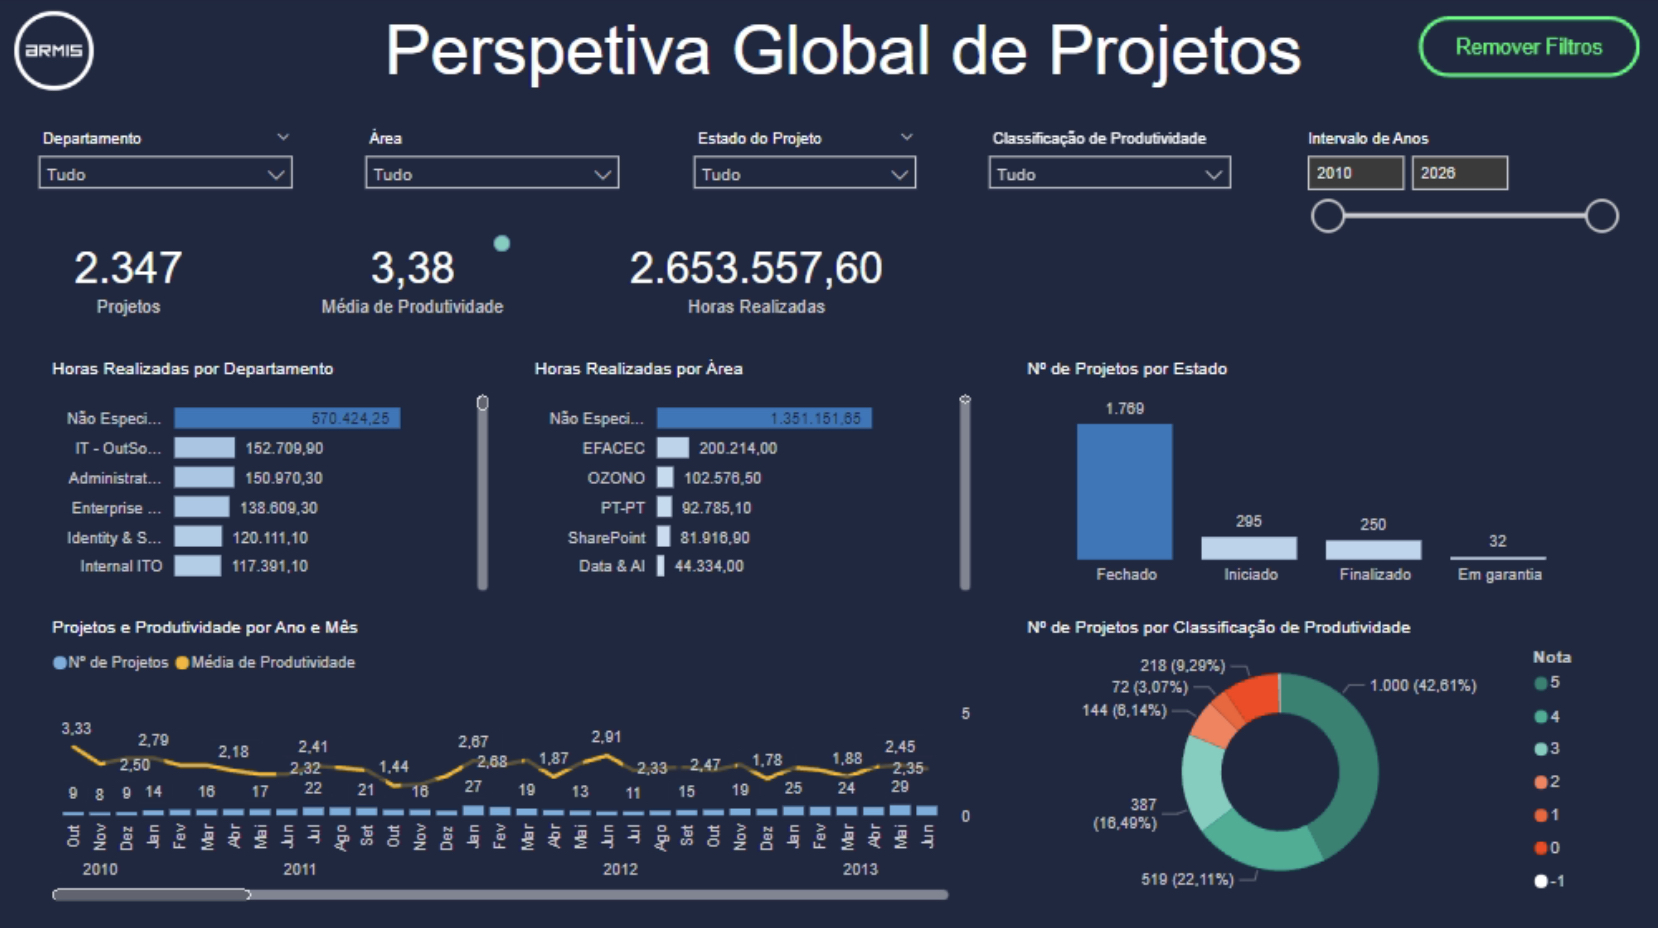

What the dashboard file says about the page in this screenshot:
{"tool":"powerbi","page":{"name":"Global de Projetos","canvas":[1280,720],"ordinal":0},"visuals":[{"type":"image","box":[5.1,6.4,77.8,71.4],"z":0},{"type":"actionButton","box":[1093.9,15.3,169.6,47.2],"z":1000},{"type":"clusteredBarChart","title":"Horas Realizadas por Área","fields":{"Y":["Produtividade de Projetos.Total Horas Realizadas"],"Category":["Projeto.Area"]},"box":[408.6,278.7,345,182.7],"z":2000},{"type":"textbox","box":[288.7,6.5,726.5,71.6],"z":3000},{"type":"slicer","fields":{"Values":["Projeto.Departamento"]},"box":[22.9,96.9,215.5,61.2],"z":4000},{"type":"slicer","fields":{"Values":["Projeto.Area"]},"box":[274.5,96.9,215.5,61.2],"z":5000},{"type":"slicer","fields":{"Values":["Estado.Estado"]},"box":[526.1,96.9,191.2,61.2],"z":6000},{"type":"card","fields":{"Values":["Produtividade de Projetos.Média das Classificações de Projetos"]},"box":[226.9,174.7,187.4,81.6],"z":7000},{"type":"card","fields":{"Values":["Produtividade de Projetos.Nº de Projetos (Projeto)"]},"box":[22.9,174.7,158.1,81.6],"z":8000},{"type":"slicer","title":"Intervalo de Anos","fields":{"Values":["Calendário.Ano"]},"box":[995.7,96.9,260.1,99.4],"z":9000},{"type":"donutChart","title":"Nº de Projetos por Classificação de Produtividade","fields":{"Y":["Produtividade de Projetos.Nº de Classificações por Projeto"],"Category":["Classificação de Produtividade.Nota"]},"box":[787.9,478.1,450,221.8],"z":10000},{"type":"lineClusteredColumnComboChart","title":"Projetos e Produtividade por Ano e Mês","fields":{"Category":["Calendário.Ano","Calendário.Mes_Abrev"],"Y2":["Produtividade de Projetos.Média das Classificações de Projetos"],"Y":["Produtividade de Projetos.Número de Projetos"]},"box":[37.9,478.3,715.9,221.7],"z":11000},{"type":"clusteredColumnChart","title":"Nº de Projetos por Estado","fields":{"Y":["Produtividade de Projetos.Nº de Projetos (Projeto) exceto Inválido"],"Category":["Estado.Estado"]},"box":[787.9,279.2,450,182.3],"z":12000},{"type":"clusteredBarChart","title":"Horas Realizadas por Departamento","fields":{"Category":["Projeto.Departamento"],"Y":["Produtividade de Projetos.Total Horas Realizadas"]},"box":[37.9,278.7,345,182.7],"z":13000},{"type":"card","fields":{"Values":["Produtividade de Projetos.Horas Realizadas (Projeto)"]},"box":[460.2,174.7,248.6,81.6],"z":14000},{"type":"slicer","fields":{"Values":["Classificação de Produtividade.Nota"]},"box":[753.5,96.9,206.1,61.4],"z":15000},{"type":"shape","box":[382.5,183.6,12.7,12.7],"z":20000}]}

Visuals, with their boxes in screenshot pixels (x1, y1, x2, y2), scaled from the page's 1280x720 canvas onto the 1658x928 screenshot:
image: <box>7,8,107,100</box>
actionButton: <box>1417,20,1637,81</box>
"Horas Realizadas por Área" clusteredBarChart: <box>529,359,976,595</box>
textbox: <box>374,8,1315,101</box>
slicer - Projeto.Departamento: <box>30,125,309,204</box>
slicer - Projeto.Area: <box>356,125,635,204</box>
slicer - Estado.Estado: <box>681,125,929,204</box>
card - Produtividade de Projetos.Média das Classificações de Projetos: <box>294,225,537,330</box>
card - Produtividade de Projetos.Nº de Projetos (Projeto): <box>30,225,234,330</box>
"Intervalo de Anos" slicer: <box>1290,125,1627,253</box>
"Nº de Projetos por Classificação de Produtividade" donutChart: <box>1021,616,1603,902</box>
"Projetos e Produtividade por Ano e Mês" lineClusteredColumnComboChart: <box>49,616,976,902</box>
"Nº de Projetos por Estado" clusteredColumnChart: <box>1021,360,1603,595</box>
"Horas Realizadas por Departamento" clusteredBarChart: <box>49,359,496,595</box>
card - Produtividade de Projetos.Horas Realizadas (Projeto): <box>596,225,918,330</box>
slicer - Classificação de Produtividade.Nota: <box>976,125,1243,204</box>
shape: <box>495,237,512,253</box>
